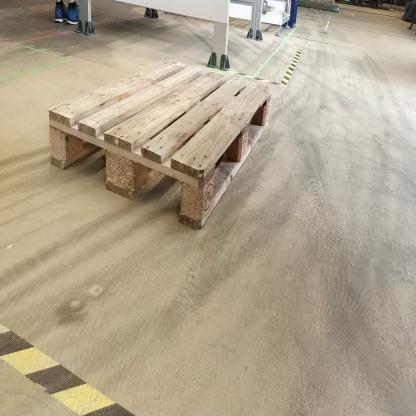BoxFace: (43, 56, 274, 248)
